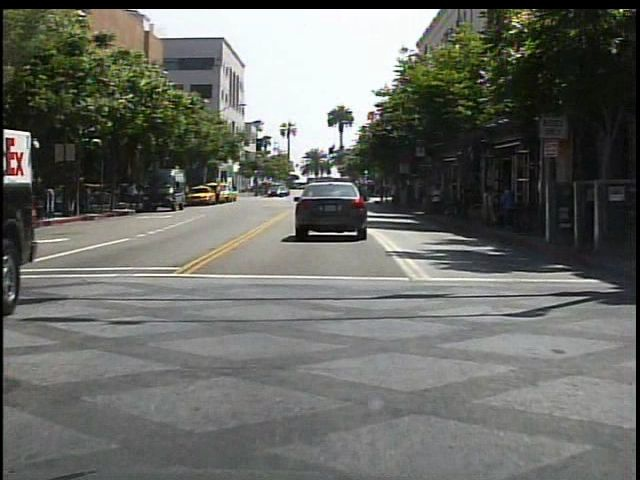person: (428, 180, 448, 220)
